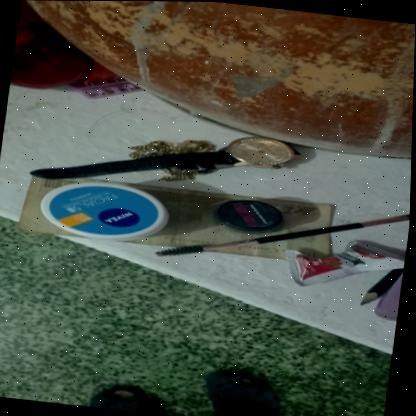five-back-vef: (16, 170, 338, 264)
